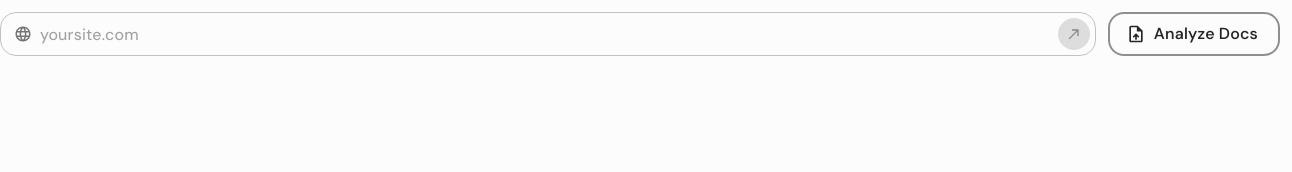
Scenario: QuickAuditBar › clears the error when the user edits the URL
Type "example.com" into the field named "Website address to audit".
click(545, 34); type("example.com")  # box [40,14,1050,54]
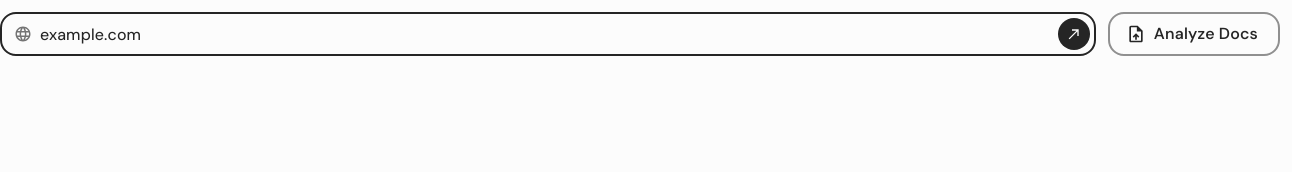
Click the button named "Run audit".
click(1074, 34)  # box [1058,18,1090,50]
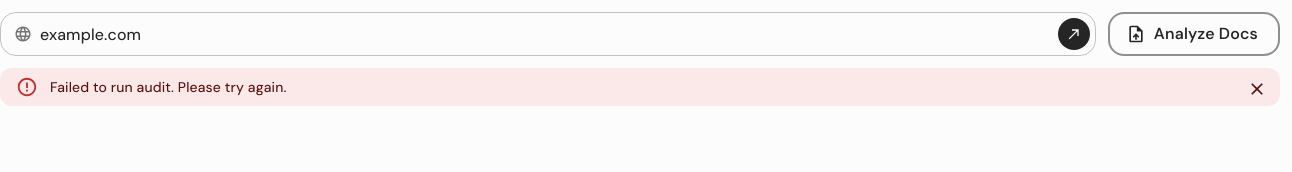
Expected: the message "Failed to run audit. Please try again." is shown, [0,68,1280,106]
Type "/" into the field named "Website address to audit".
click(545, 34); type("/")  # box [40,14,1050,54]
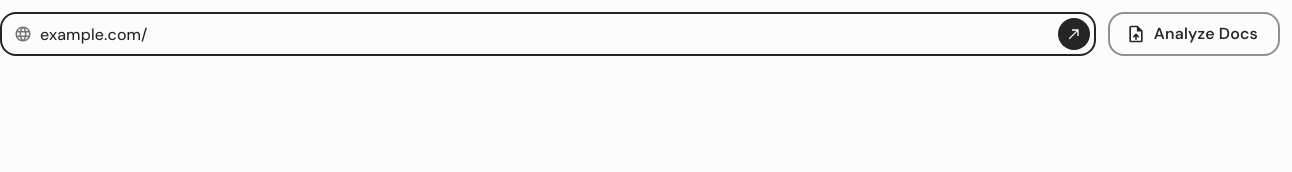
Expected: the message "Failed to run audit. Please try again." is gone
